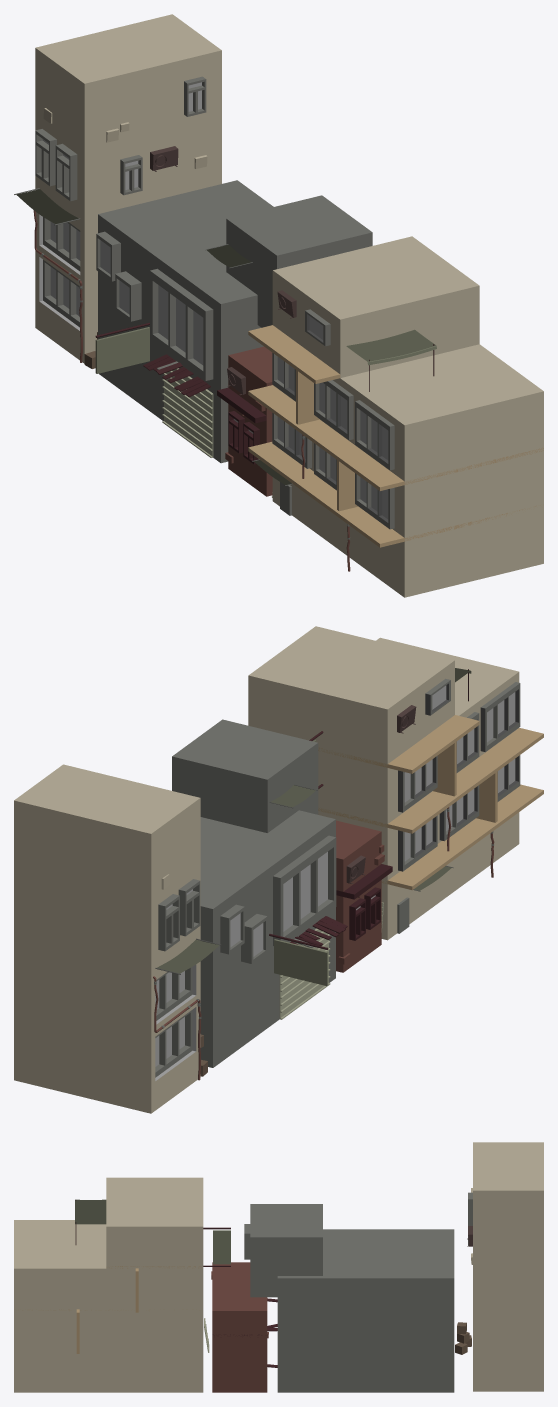
Rendered from APARTMENT_otherbuildings3.fbx.
3 renders of one model, top to bottom at view 1: azimuth 30°, elevation 25°; view 2: azimuth 150°, elevation 25°; view 3: azimuth 270°, elevation 25°, orthographic. The views are drawn at different scales.
Parts seen in each view (by area): view 1: pCube200; view 2: pCube200; view 3: pCube200.
Boxes of the visible parts, <box> form: pCube200: <box>14,14,543,597</box>; pCube200: <box>14,626,543,1113</box>; pCube200: <box>14,1142,543,1392</box>.
Size of the model in its own units: 63.38 by 82.08 by 196.
